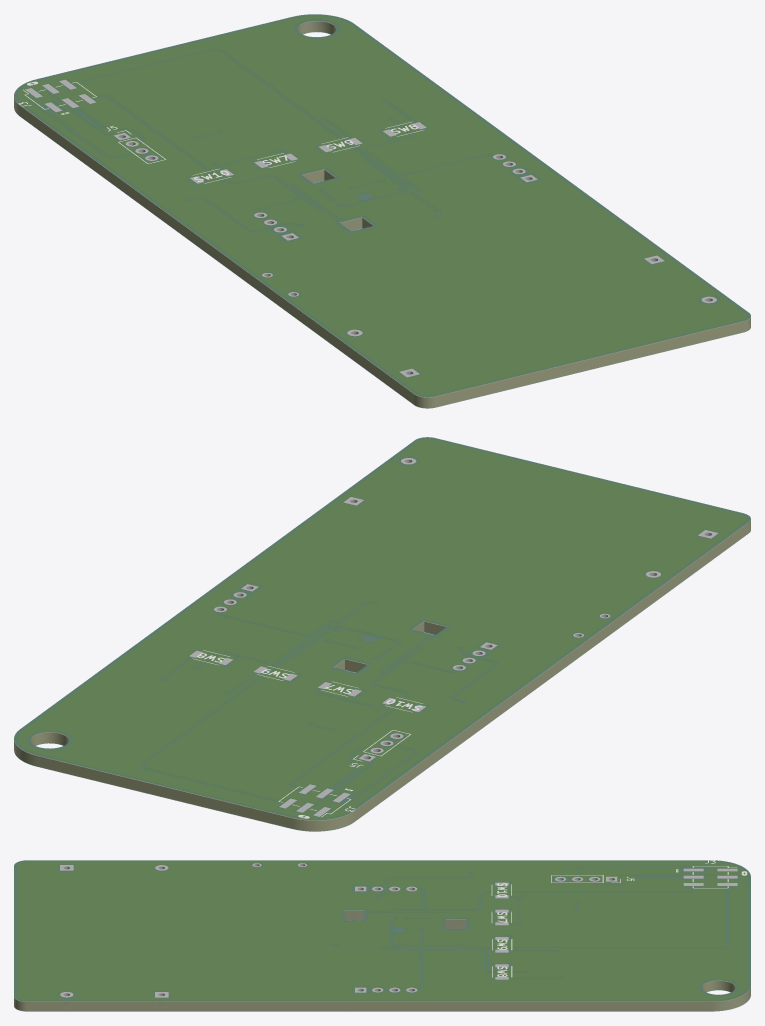
The model's file is bsides-cdmx-2025-badge.glb.
3 renders of one model, top to bottom at view 1: azimuth 30°, elevation 25°; view 2: azimuth 150°, elevation 25°; view 3: azimuth 270°, elevation 25°, orthographic. The views are drawn at different scales.
Parts seen in each view (by area): view 1: =>[0:1:1:9], =>[0:1:1:3]; view 2: =>[0:1:1:9], =>[0:1:1:3]; view 3: =>[0:1:1:9], =>[0:1:1:3].
Boxes of the visible parts, left/top/right/bottom form: =>[0:1:1:9]: left=14, top=14, right=750, bottom=408; =>[0:1:1:3]: left=18, top=16, right=746, bottom=395; =>[0:1:1:9]: left=14, top=437, right=750, bottom=831; =>[0:1:1:3]: left=18, top=439, right=746, bottom=818; =>[0:1:1:9]: left=14, top=860, right=750, bottom=1011; =>[0:1:1:3]: left=18, top=862, right=746, bottom=999.
Size of the model in its own units: 0.0499 by 0.00247 by 0.1098.
2 materials, 2 textured.
